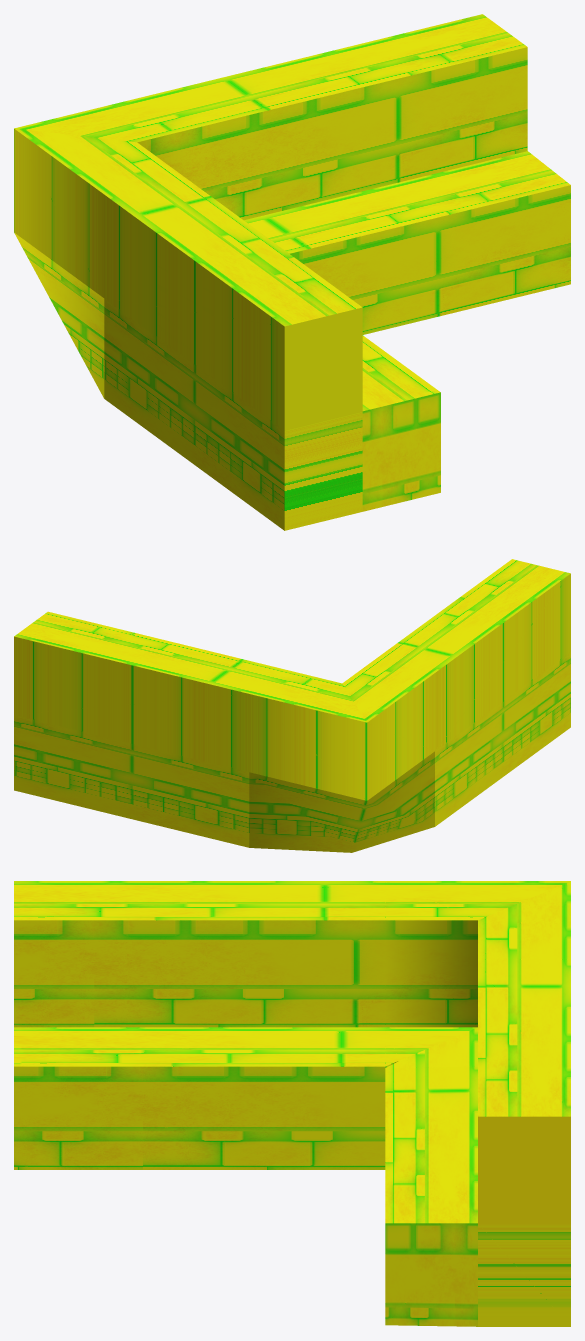
Rendered from Stepscorner.fbx.
3 renders of one model, top to bottom at view 1: azimuth 30°, elevation 25°; view 2: azimuth 150°, elevation 25°; view 3: azimuth 270°, elevation 25°, orthographic. The views are drawn at different scales.
Visible parts, largest first — view 1: pCube33; view 2: pCube33; view 3: pCube33.
Part boxes in pixels (box(x1,y1,x2,y2)): pCube33: box(14, 14, 570, 530); pCube33: box(14, 559, 570, 852); pCube33: box(14, 881, 570, 1326).
Bounding box in the file's own units: 300 × 125 × 300.
